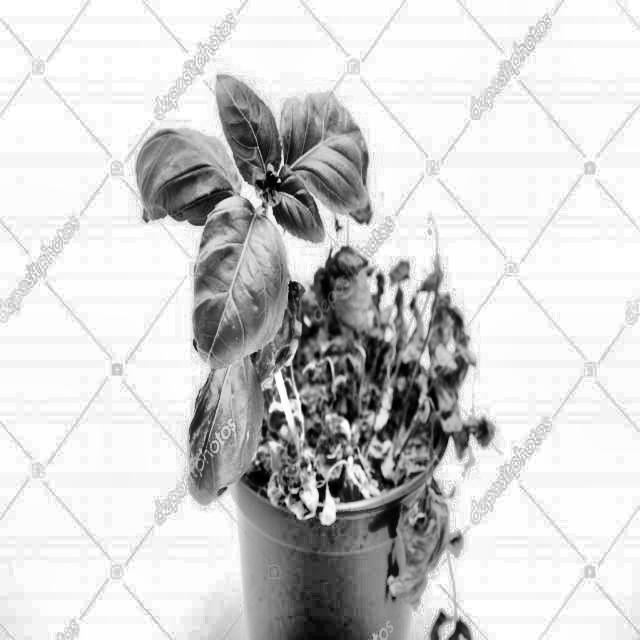plants: (122, 62, 498, 639), (297, 245, 489, 639), (171, 303, 262, 527), (298, 93, 390, 238)
